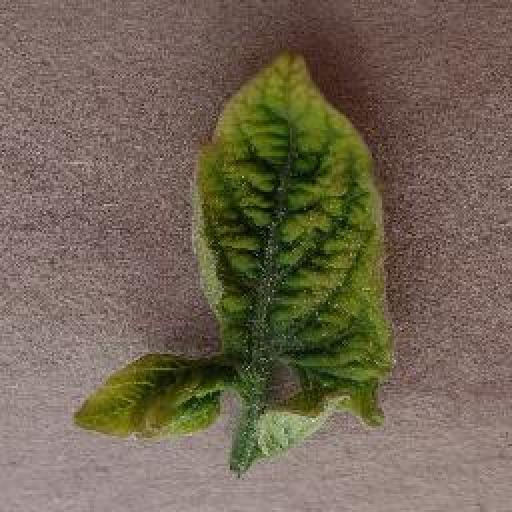disease_tomato: (72, 49, 397, 455)
